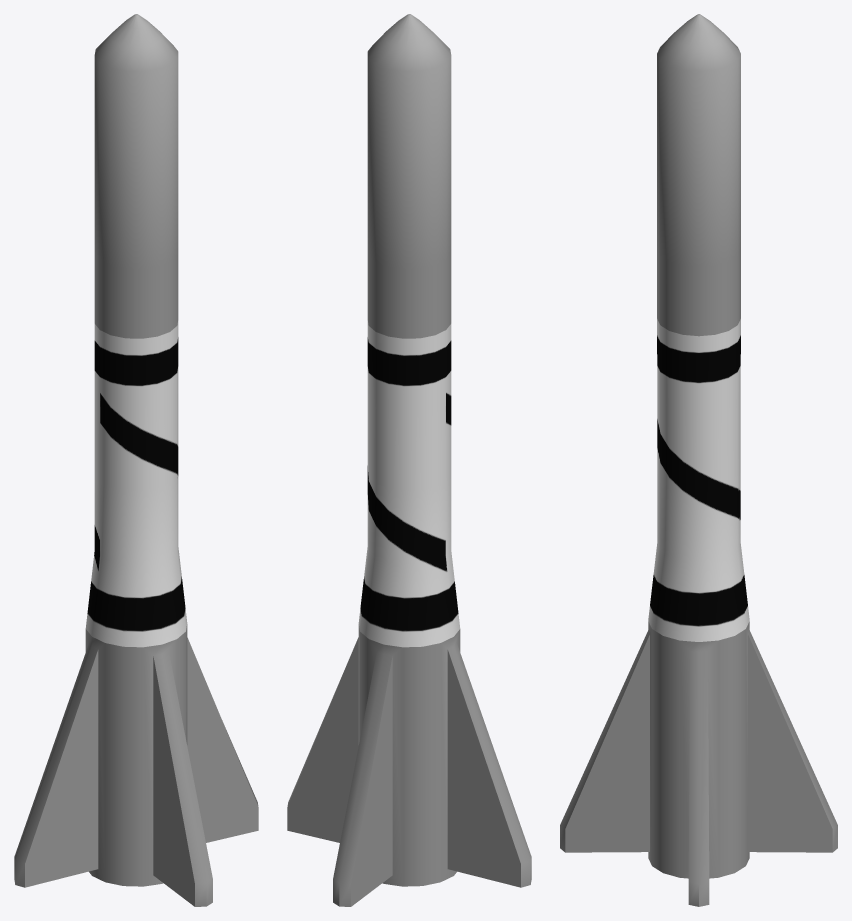
The model's file is Missile_8_NEW.fbx.
3 views of the same model, side by side, from view 1: azimuth 30°, elevation 25°; view 2: azimuth 150°, elevation 25°; view 3: azimuth 270°, elevation 25° (orthographic).
Visible parts, largest first — view 1: Cylinder, Cylinder_1; view 2: Cylinder, Cylinder_1; view 3: Cylinder, Cylinder_1.
Boxes of the visible parts, x1,y1,x2,y2 form: Cylinder: (14, 14, 258, 906); Cylinder_1: (85, 321, 187, 647); Cylinder: (287, 14, 531, 906); Cylinder_1: (358, 321, 460, 647); Cylinder: (560, 14, 837, 906); Cylinder_1: (648, 319, 749, 641).
Size of the model in its own units: 2.6 by 8.73 by 2.6.
